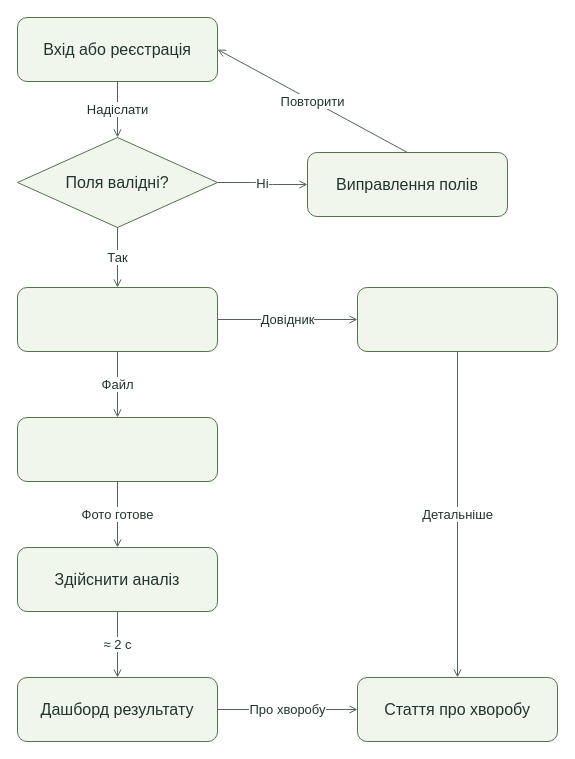
Some shapes in this 575 by 759 pixel diagram are drawn without their labels. Here are the shapes that lost their labels. From the top down, the box of each, then its label:
(16, 286, 218, 352): Аналіз — вибір фото
(356, 286, 558, 352): Довідник: пошук і картки
(16, 416, 218, 482): Перевірка та прев’ю
